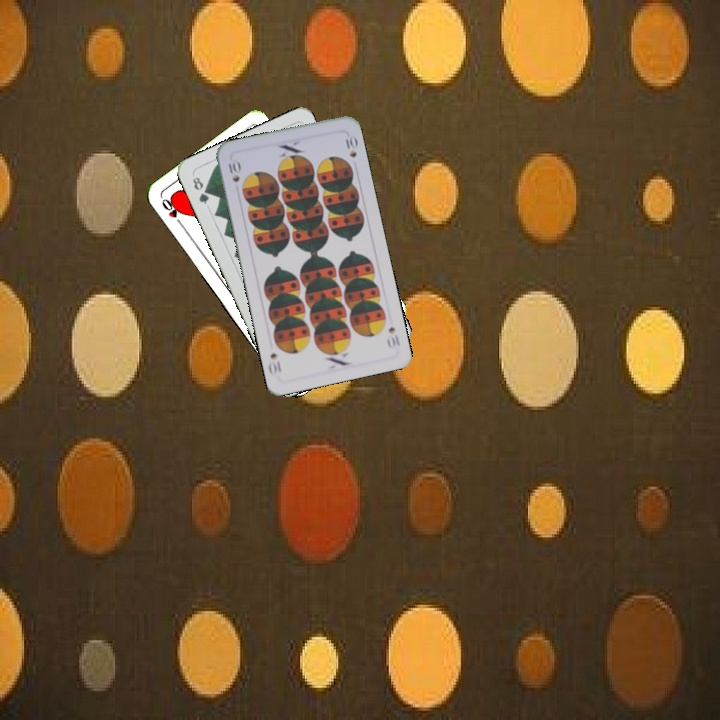G8: (188, 173, 212, 207)
HO: (158, 194, 186, 230)
S10: (383, 323, 402, 351), (224, 157, 242, 185)
